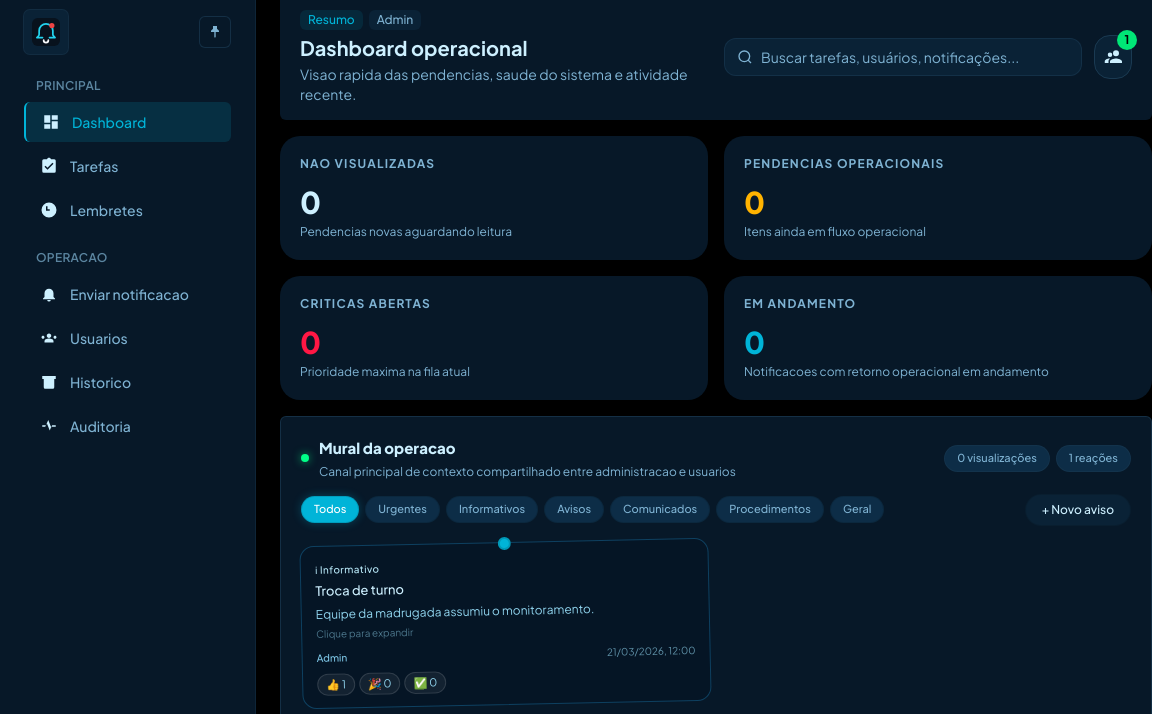
Test: AdminDashboard › envia notificacao sem recarregar fila e historico por completo
This screenshot has width=1152, height=714.
Click the button "Enviar notificacao". click: point(128, 294)
box: 24,274 -> 231,314
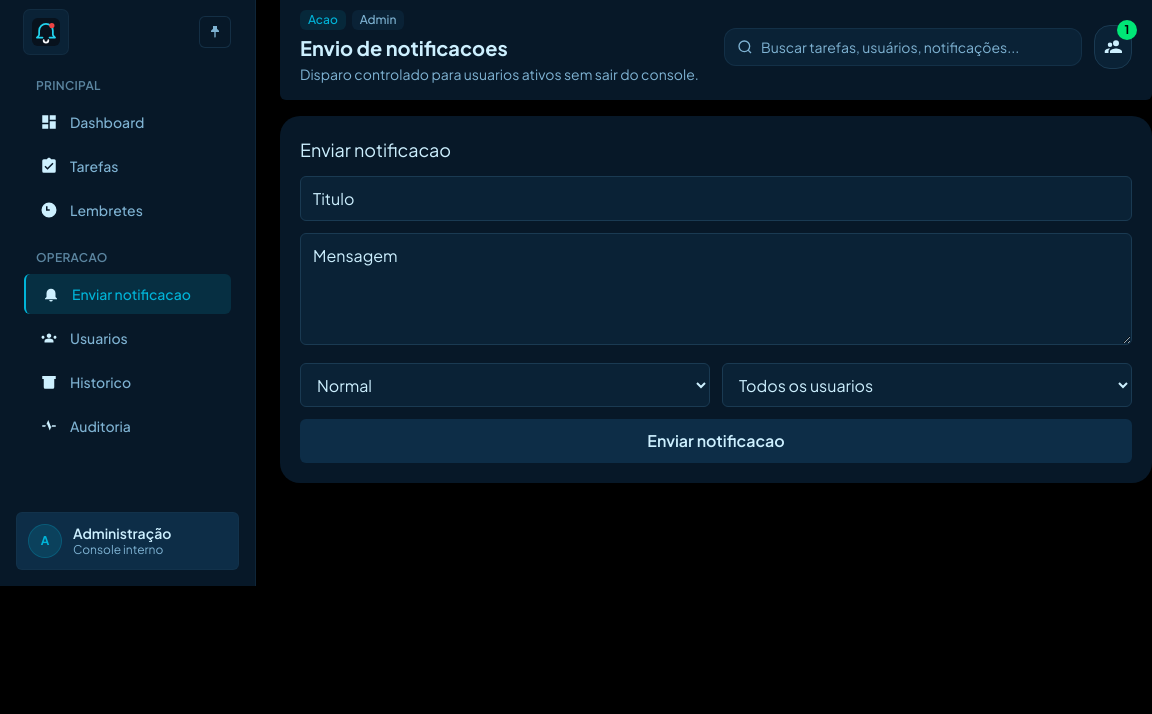
Type "Teste local" into the field with placeholder "Titulo". click: point(716, 199)
box: 300,176 -> 1132,221
Type "Mensagem local" into the text box with placeholder "Mensagem". click: point(716, 289)
box: 300,233 -> 1132,345
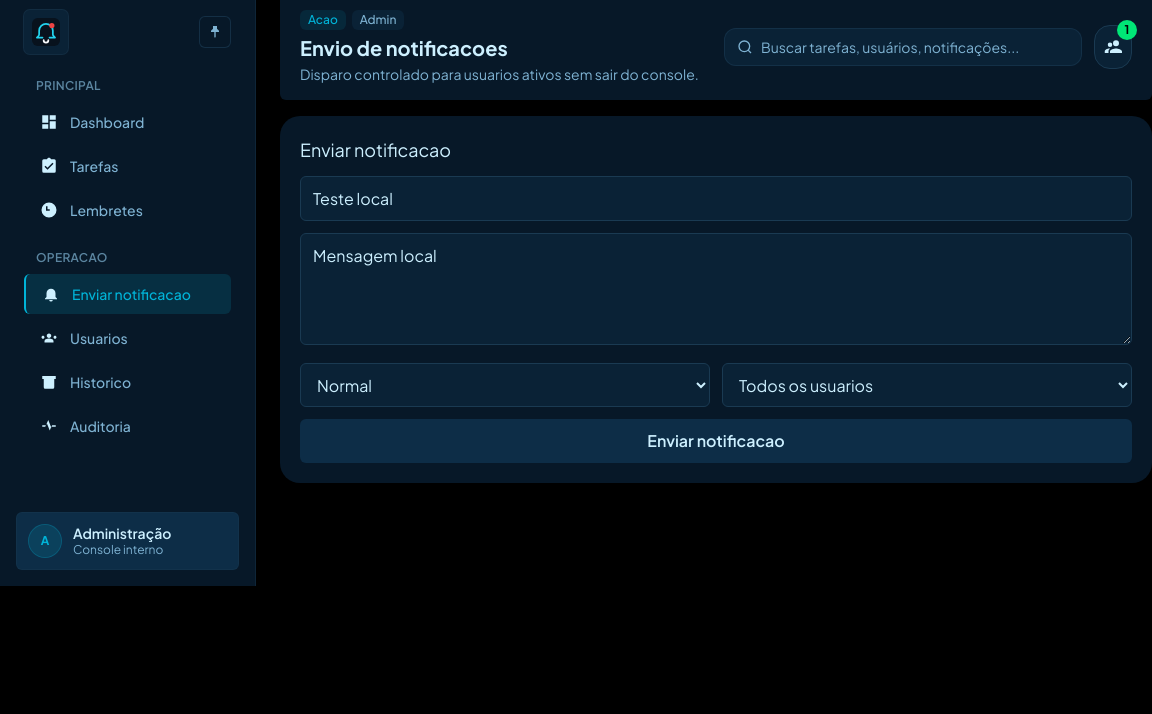
Select "Usuarios especificos" in the 2nd dropdown. click: point(927, 385)
box: 722,363 -> 1132,407
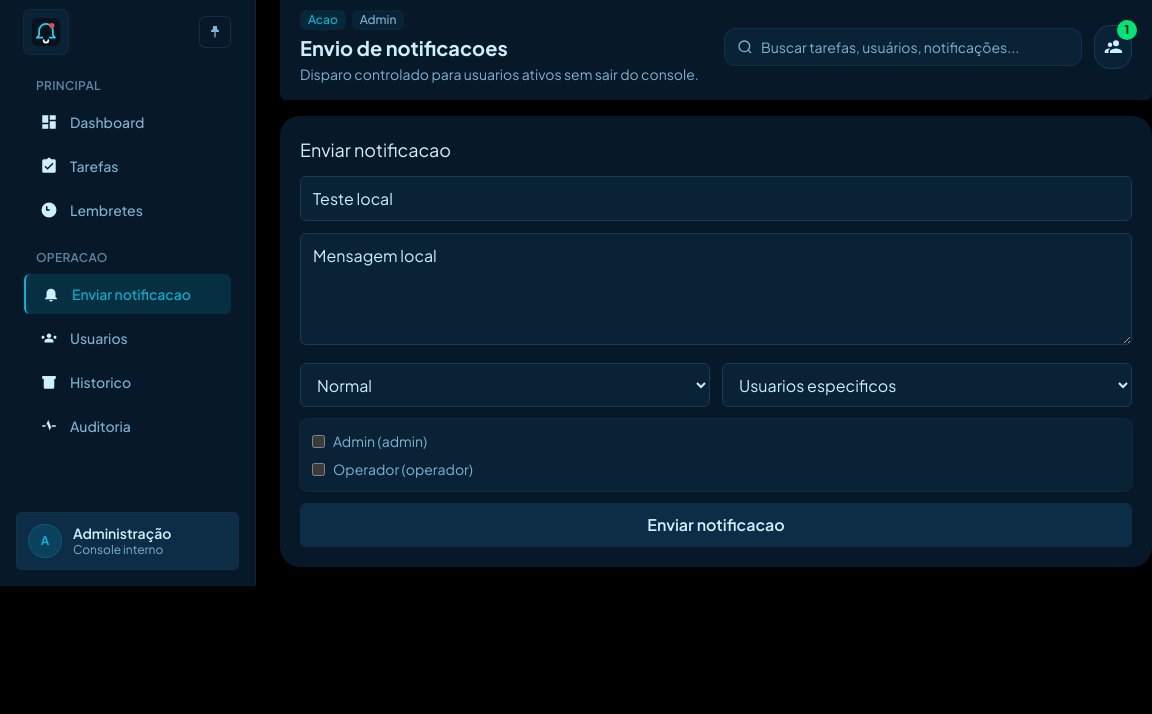
Click the checkbox labelled "Operador (operador)". click: point(318, 469)
box: 312,463 -> 325,476
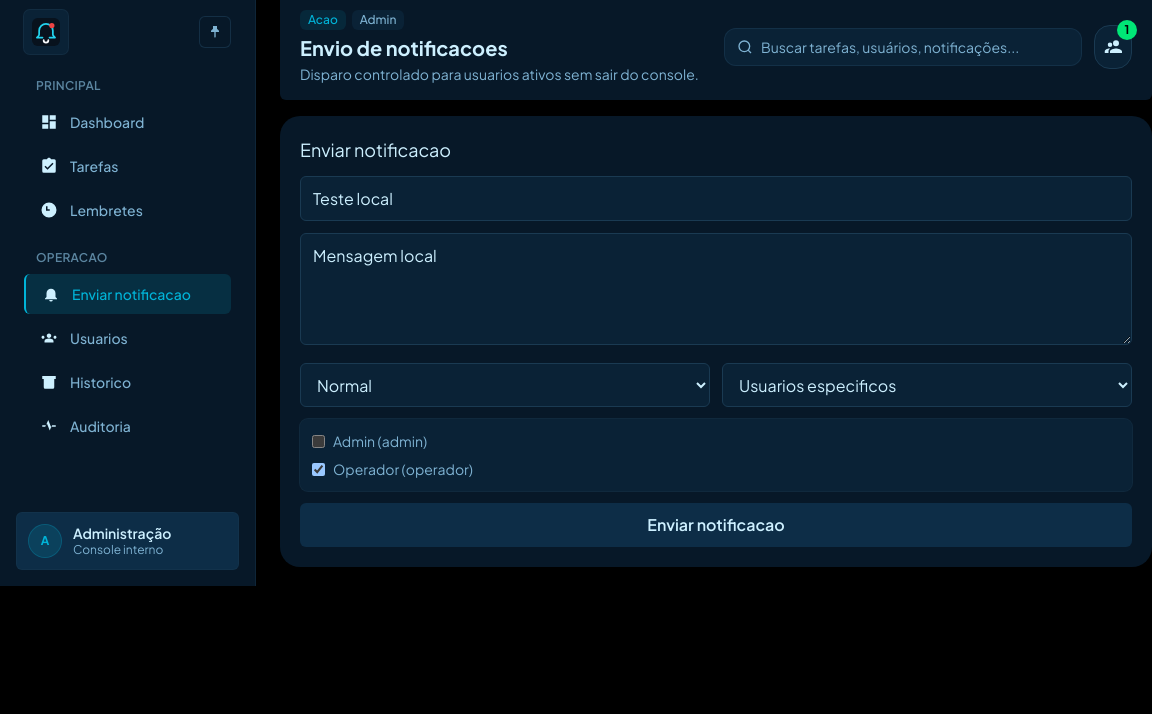
Result: the element with placeholder "Titulo" is shown at 280,116 -> 1151,567
Click the 2nd button "Enviar notificacao". click: point(716, 525)
box: 300,503 -> 1132,547
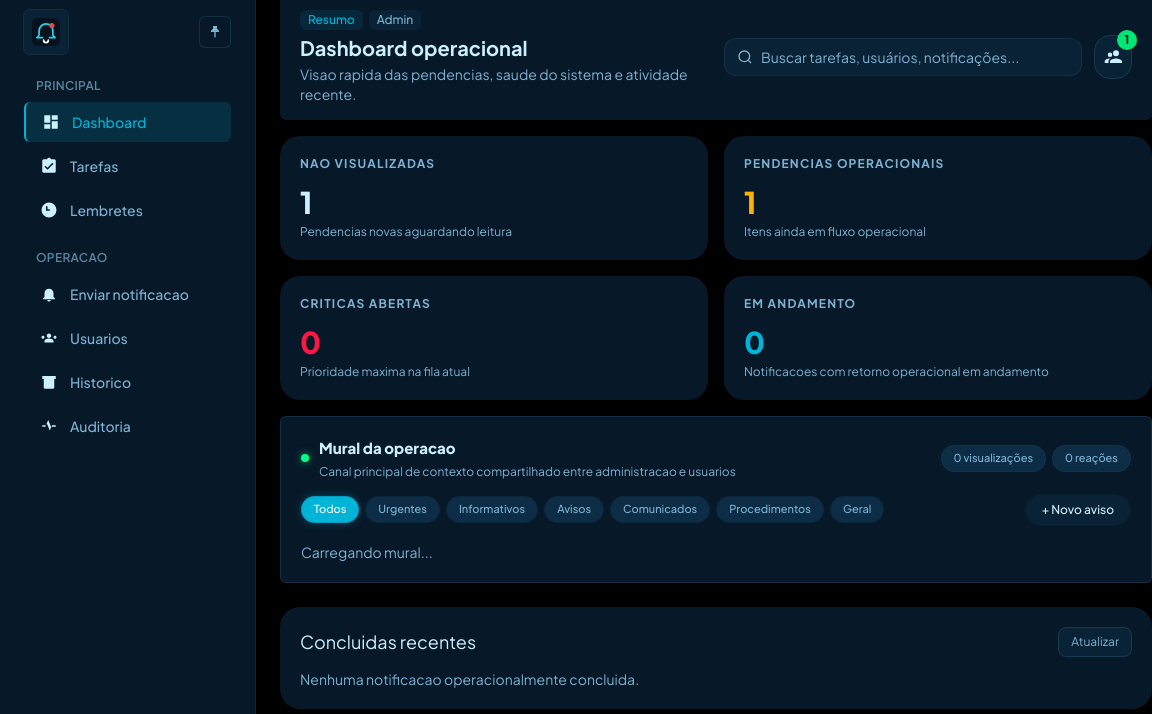
Expected: the button named "Usuarios online" is shown, 1094,35 -> 1132,79
Type "teste local" into the search field named "Busca global do admin". click: point(915, 57)
box: 761,47 -> 1068,67
(page scrolled)
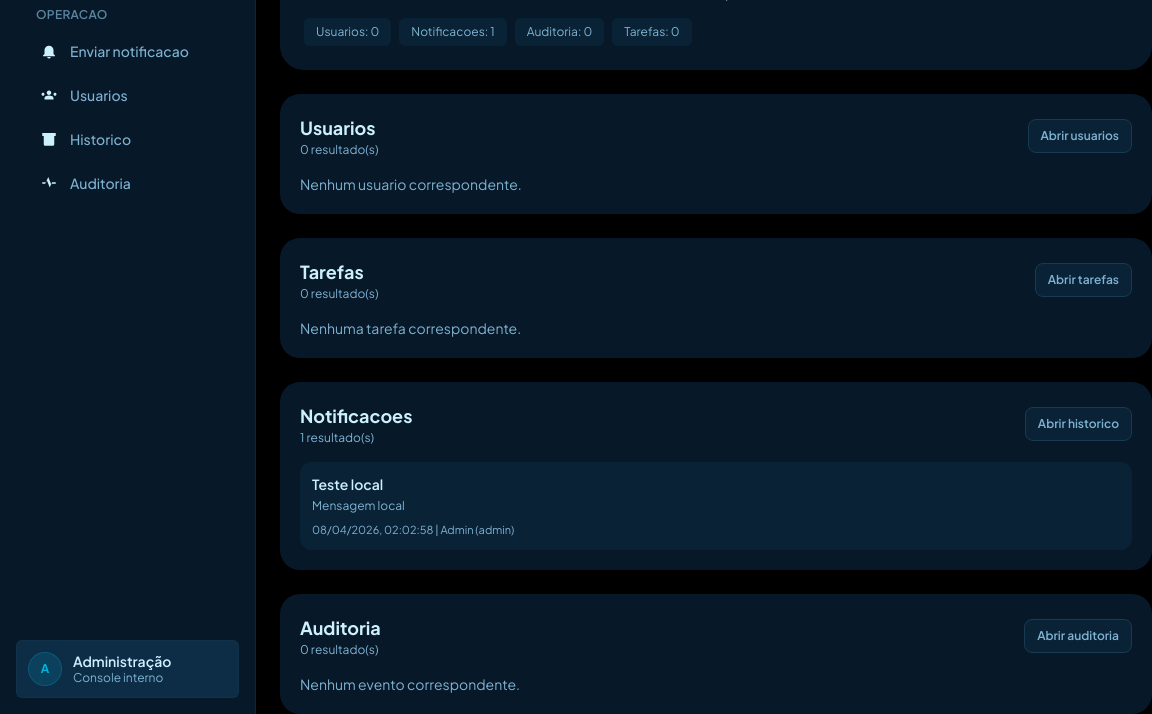
Result: the text "Teste local" is shown at 312,474 -> 383,492
